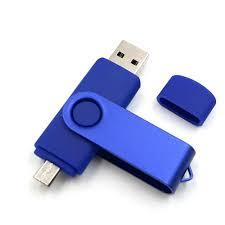Flash-drive: (37, 35, 202, 184)
